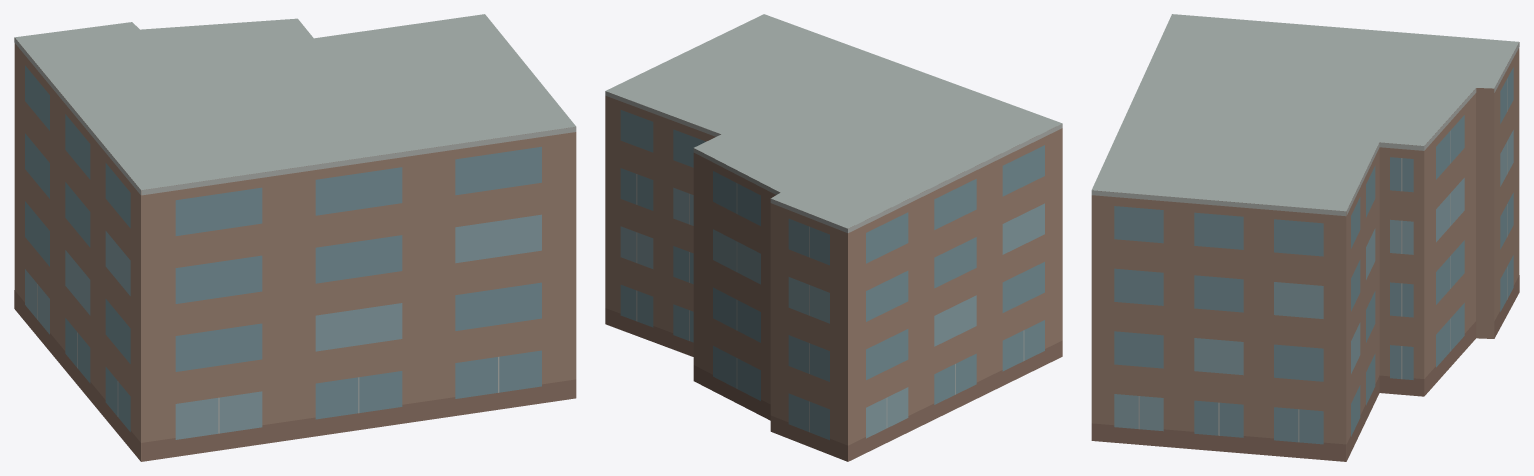
Rendered from survey-upis-33016675.glb.
The picture shows the model from 3 angles, left to right: view 1: azimuth 30°, elevation 25°; view 2: azimuth 150°, elevation 25°; view 3: azimuth 270°, elevation 25°; orthographic projection. The views are drawn at different scales.
Visible parts, largest first — view 1: survey-upis-33016675.tmp; view 2: survey-upis-33016675.tmp; view 3: survey-upis-33016675.tmp.
Part boxes in pixels (bbox=[...]): survey-upis-33016675.tmp: bbox=[14, 14, 576, 461]; survey-upis-33016675.tmp: bbox=[605, 14, 1062, 461]; survey-upis-33016675.tmp: bbox=[1091, 14, 1519, 461].
Bounding box in the file's own units: 21.16 × 12.52 × 19.39.
